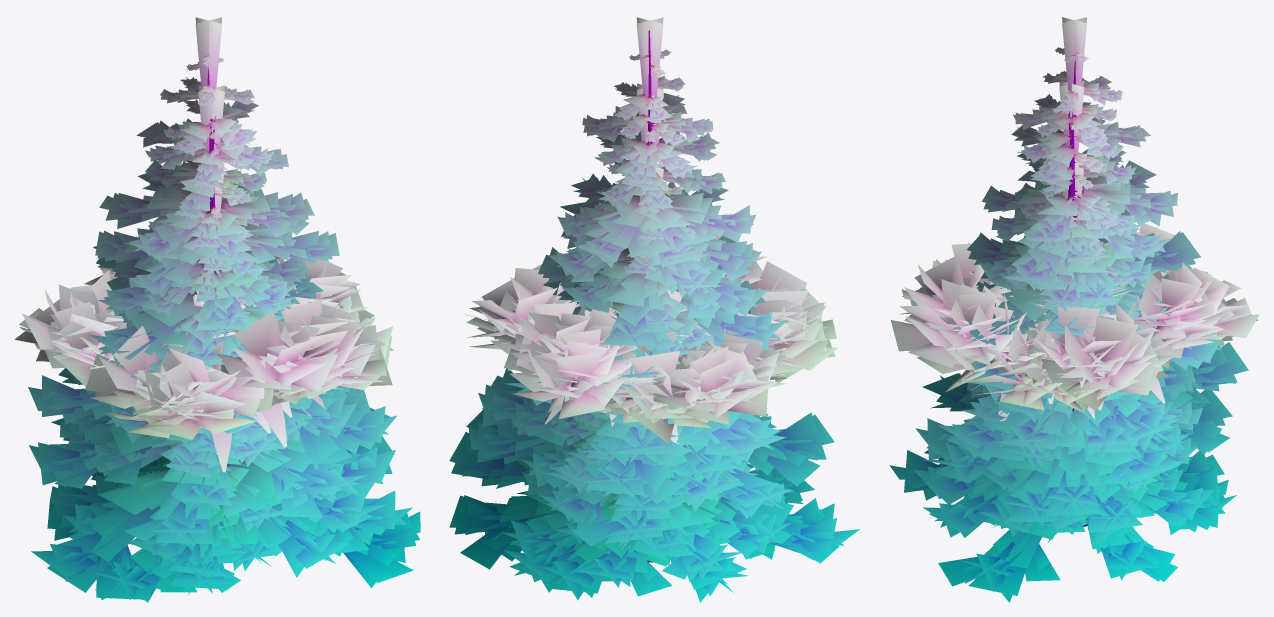
File: flora_terra.glb
3 renders of one model, left to right at view 1: azimuth 30°, elevation 25°; view 2: azimuth 150°, elevation 25°; view 3: azimuth 270°, elevation 25°, orthographic. The views are drawn at different scales.
Visible parts, largest first — view 1: spirepine_c_lod0, spirepine_lod0, parasol_b_lod0, parasol_c_lod0, parasol_lod0, spirepine_b_lod0, fernpalm_lod0, fernpalm_b_lod0; view 2: spirepine_c_lod0, spirepine_lod0, parasol_lod0, parasol_c_lod0, parasol_b_lod0, spirepine_b_lod0; view 3: spirepine_c_lod0, spirepine_lod0, parasol_b_lod0, parasol_lod0, parasol_c_lod0, spirepine_b_lod0.
Boxes of the visible parts, x1,y1,x2,y2 form: spirepine_c_lod0: [28, 17, 420, 602]; spirepine_lod0: [51, 85, 394, 585]; parasol_b_lod0: [30, 273, 393, 439]; parasol_c_lod0: [14, 261, 362, 425]; parasol_lod0: [50, 236, 392, 425]; spirepine_b_lod0: [49, 164, 345, 561]; fernpalm_lod0: [260, 395, 324, 447]; fernpalm_b_lod0: [133, 402, 309, 472]; spirepine_c_lod0: [449, 17, 860, 602]; spirepine_lod0: [499, 83, 804, 596]; parasol_lod0: [465, 268, 828, 422]; parasol_c_lod0: [466, 261, 824, 428]; parasol_b_lod0: [487, 234, 838, 444]; spirepine_b_lod0: [522, 163, 784, 582]; spirepine_c_lod0: [889, 17, 1248, 602]; spirepine_lod0: [913, 81, 1232, 542]; parasol_b_lod0: [890, 231, 1230, 414]; parasol_lod0: [916, 270, 1259, 392]; parasol_c_lod0: [934, 223, 1241, 411]; spirepine_b_lod0: [967, 159, 1202, 536].
Size of what is drawn, in the model's own units: 16.7 by 24.56 by 15.96.
